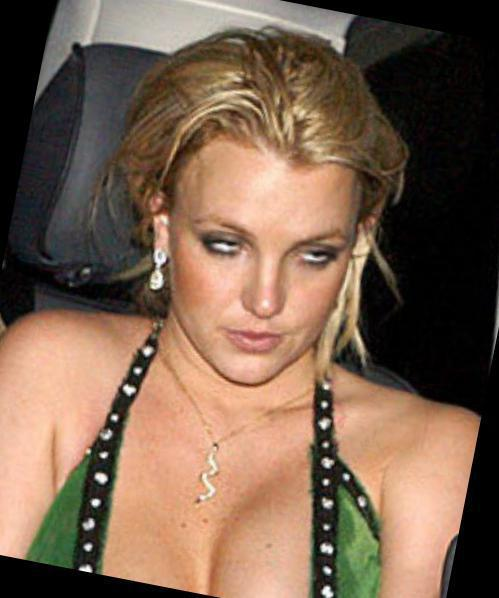Drunk: (177, 144, 339, 377)
